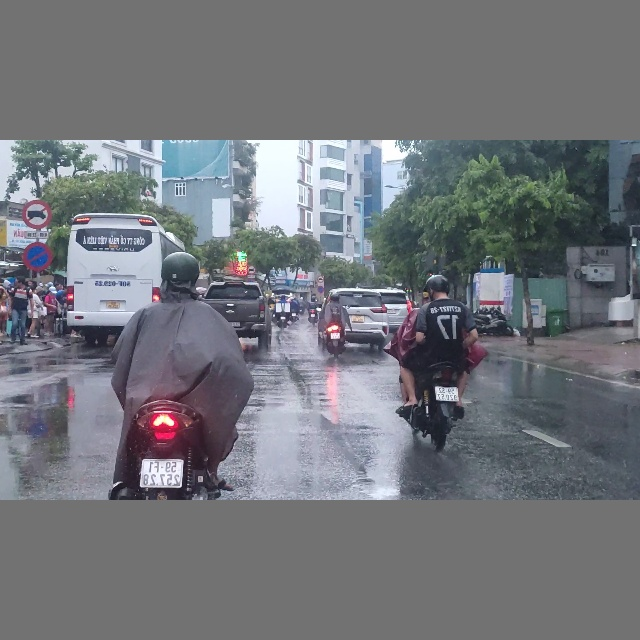P.106a*Xe tai: (22, 199, 52, 229), (247, 265, 256, 275), (317, 275, 324, 283)
P.131a: (22, 240, 52, 272), (317, 285, 324, 293)
